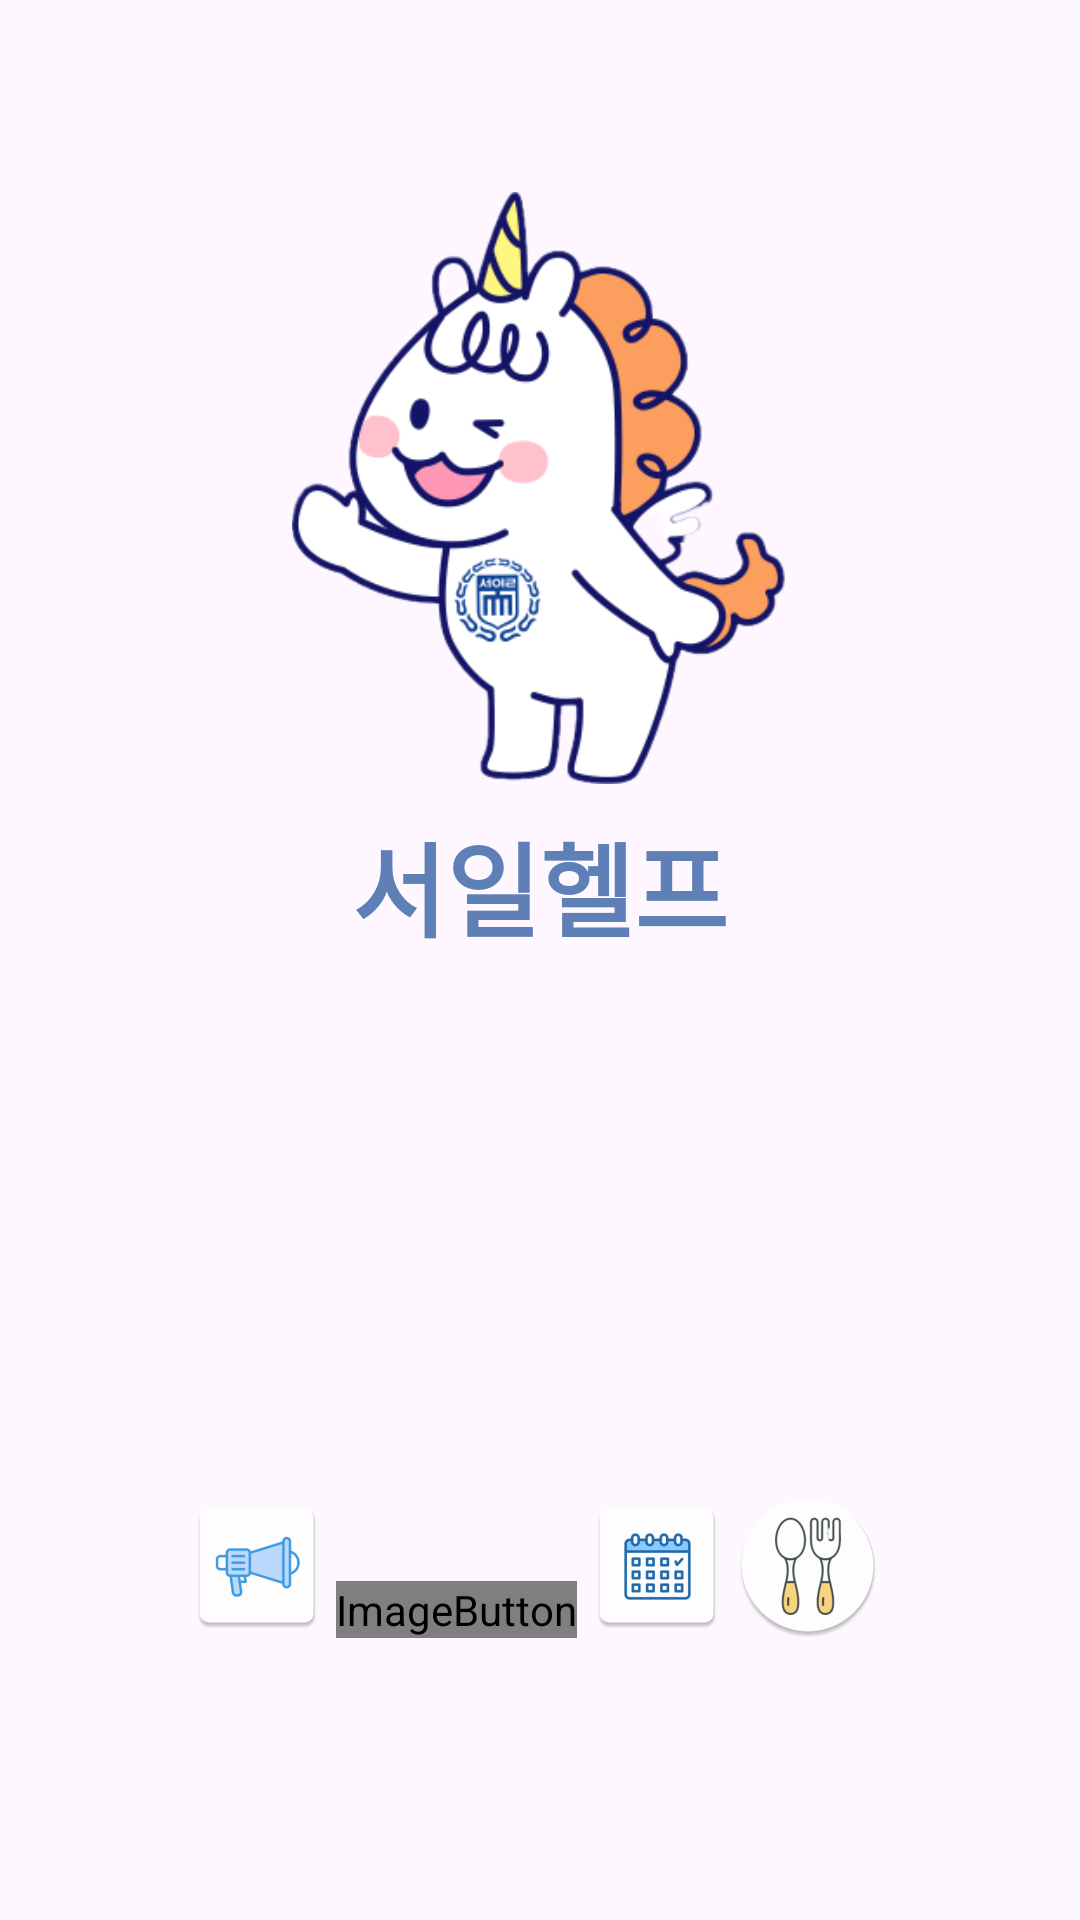

Icons on this 1080px×1920px Android screen, each with its box as rect(x1, y1, x2, y2):
announce: rect(200, 1515, 315, 1627)
calendar: rect(600, 1515, 715, 1627)
lunch round: rect(743, 1517, 875, 1635)
